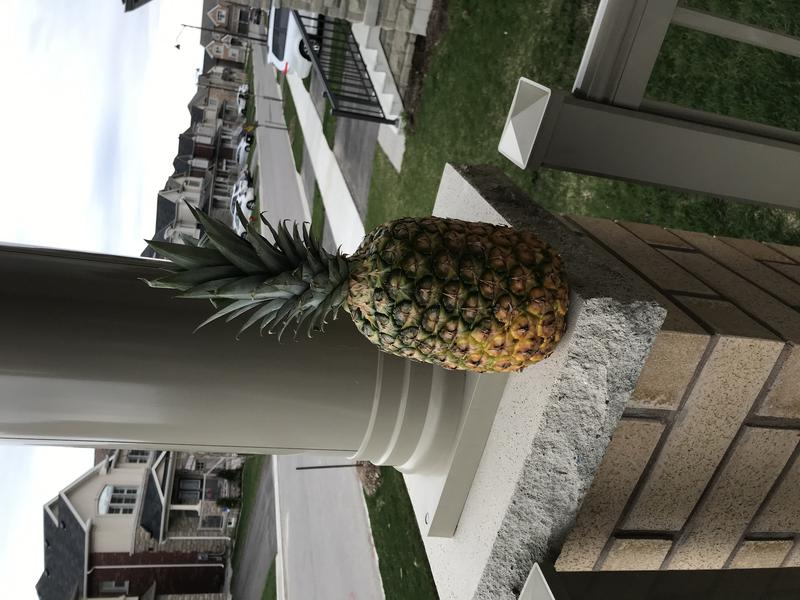pineapple: (138, 195, 582, 380)
